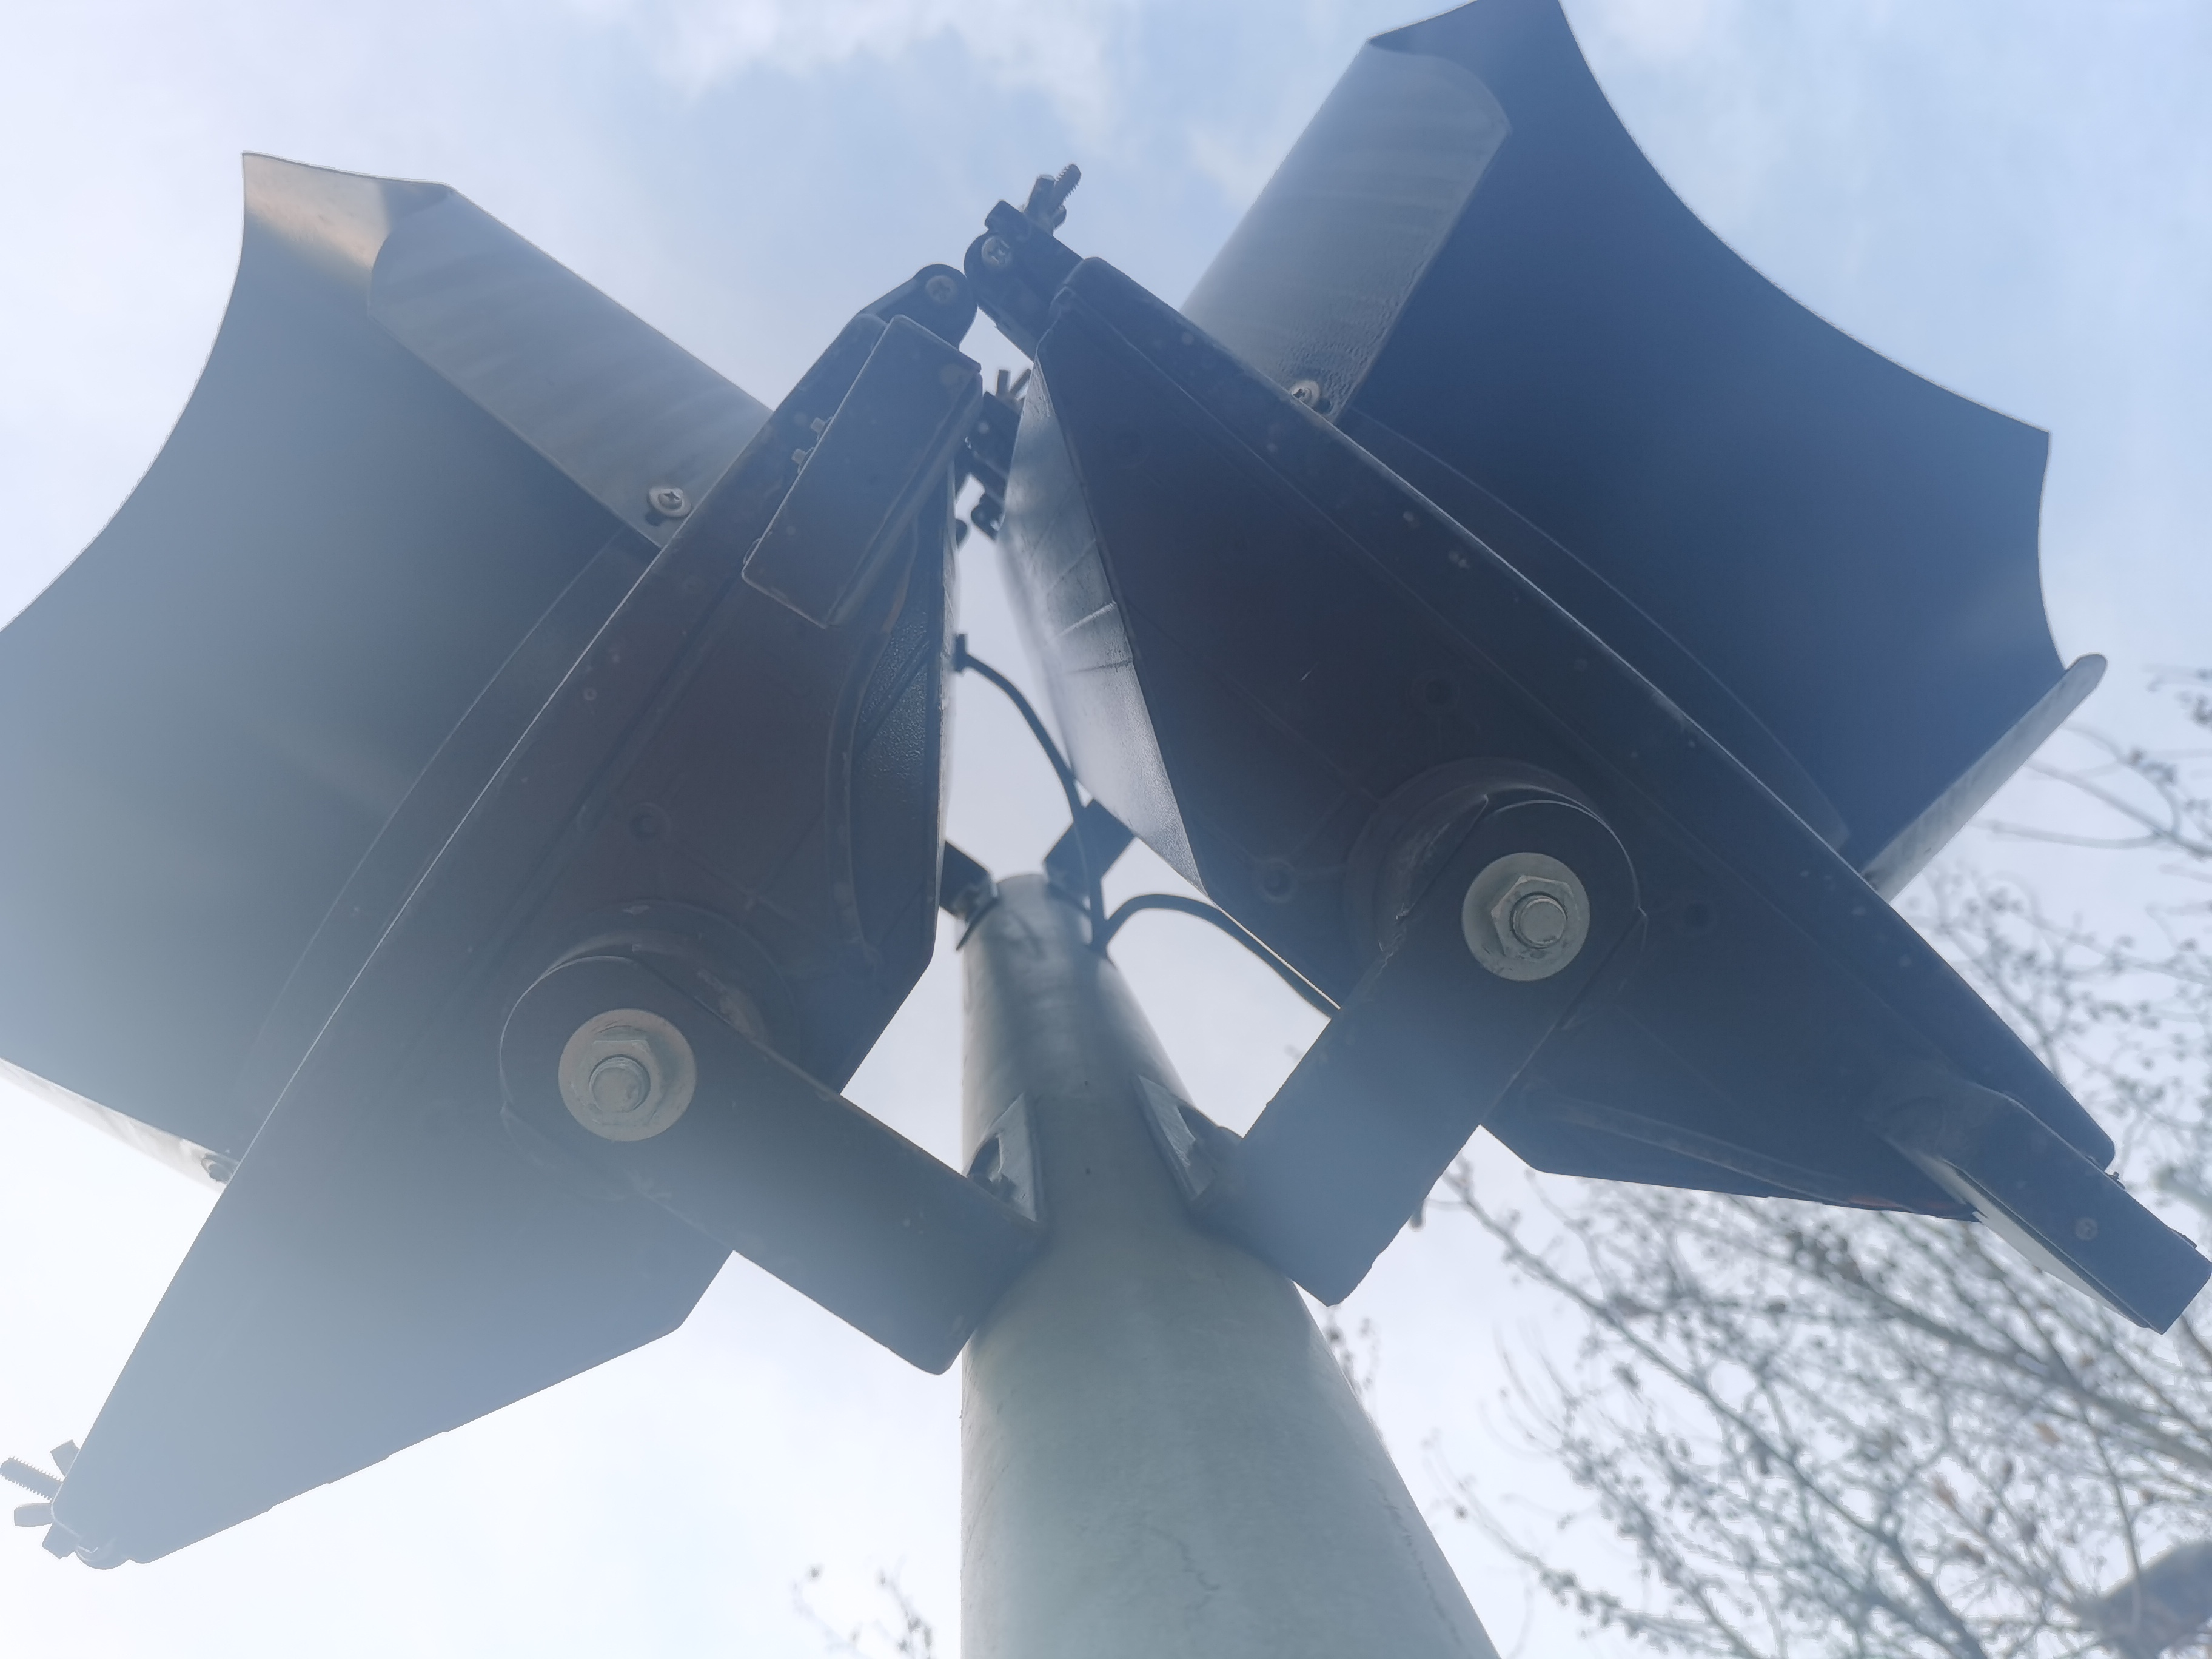bolt_b: (564, 1025, 679, 1134), (1480, 868, 1585, 971)
